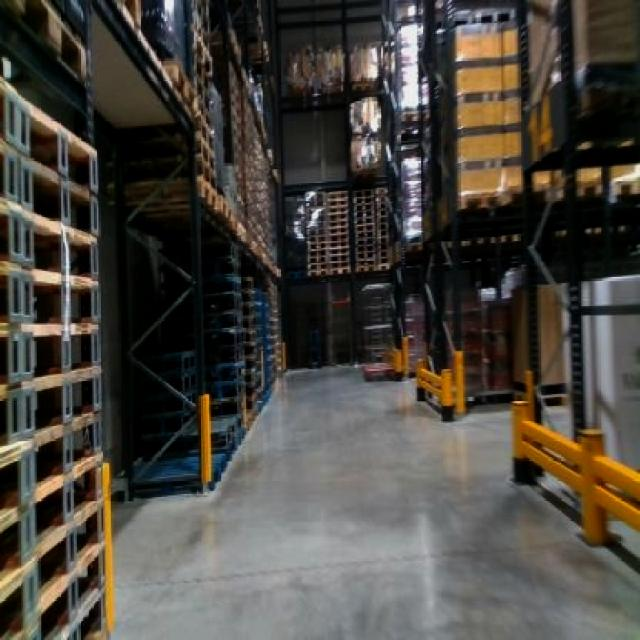pallets: (0, 48, 105, 637)
